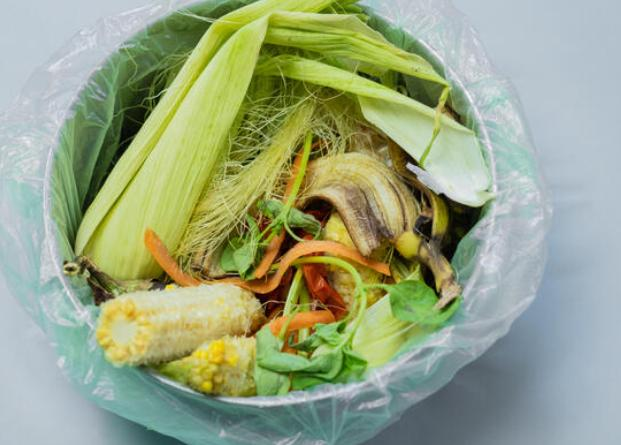organic: (87, 119, 458, 398), (262, 53, 448, 120), (103, 40, 173, 135)
